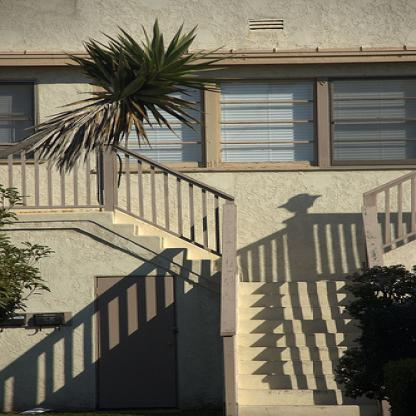stairs: (243, 294, 343, 415)
